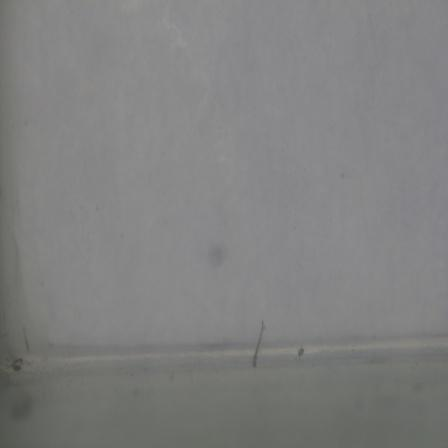Jentik-Nyamuk: (247, 315, 272, 369)
